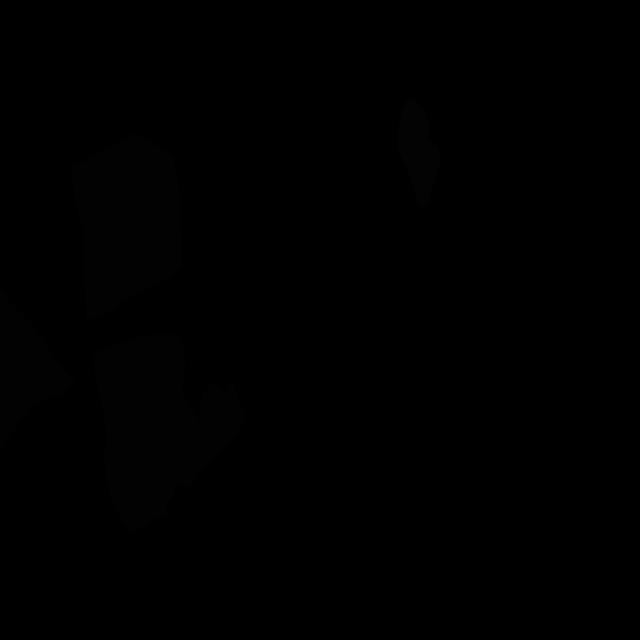cardboard: (94, 334, 245, 532), (72, 132, 182, 319), (0, 289, 76, 454)
metal: (398, 98, 441, 208)
